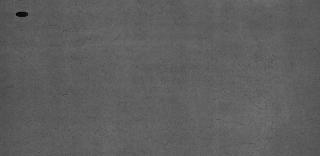punching hole: (14, 9, 32, 19)
silk spot: (36, 22, 308, 148)
